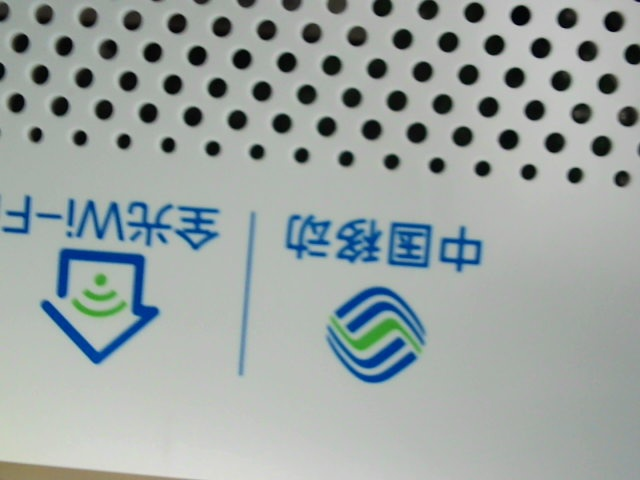BJ_QuanGuangMobile: (2, 180, 494, 387)
